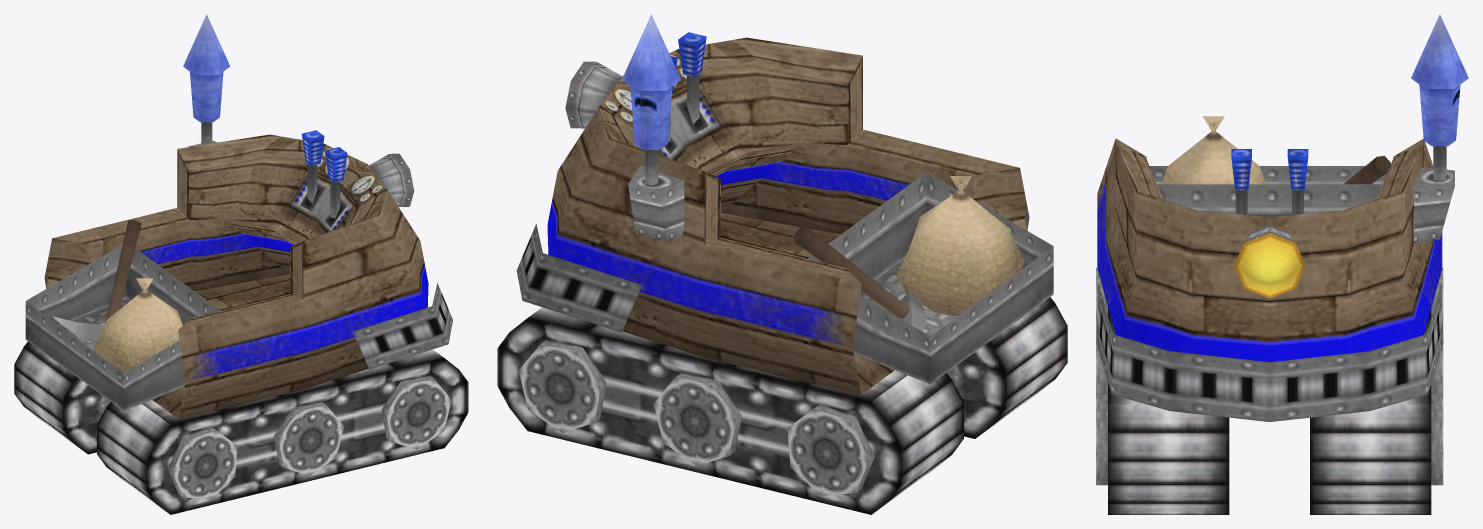
3 views of the same model, side by side, from view 1: azimuth 30°, elevation 25°; view 2: azimuth 150°, elevation 25°; view 3: azimuth 270°, elevation 25° (orthographic). The views are drawn at different scales.
Parts seen in each view (by area): view 1: cargo_tank; view 2: cargo_tank; view 3: cargo_tank.
Boxes of the visible parts, x1,y1,x2,y2 form: cargo_tank: (14,14,468,514); cargo_tank: (497,14,1067,514); cargo_tank: (1096,14,1468,514).
Size of the model in its own units: 173 by 167 by 128.
1 material, 1 textured.
